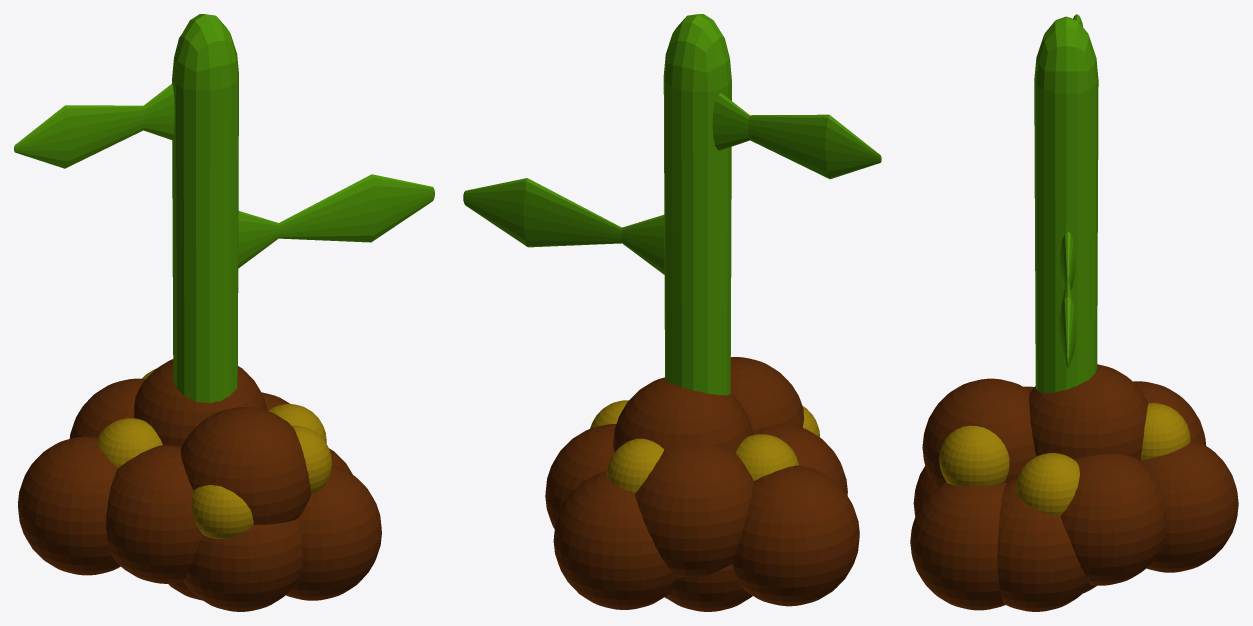
File: brotobatata.fbx
The picture shows the model from 3 angles, left to right: view 1: azimuth 30°, elevation 25°; view 2: azimuth 150°, elevation 25°; view 3: azimuth 270°, elevation 25°; orthographic projection. The views are drawn at different scales.
Visible parts, largest first — view 1: Sphere.005, Roundcube, Roundcube.002, Sphere.002, Roundcube.001; view 2: Sphere.005, Roundcube, Roundcube.002, Roundcube.001, Sphere.002; view 3: Sphere.005, Roundcube, Sphere.002, Roundcube.002.
Part boxes in pixels (box(x1,y1,x2,y2)): Sphere.005: box(18, 359, 381, 611); Roundcube: box(172, 14, 238, 403); Roundcube.002: box(238, 174, 434, 268); Sphere.002: box(96, 369, 331, 538); Roundcube.001: box(14, 84, 174, 168); Sphere.005: box(545, 357, 859, 611); Roundcube: box(663, 14, 731, 395); Roundcube.002: box(463, 178, 664, 274); Roundcube.001: box(712, 93, 881, 179); Sphere.002: box(590, 400, 819, 493); Sphere.005: box(910, 364, 1238, 611); Roundcube: box(1034, 16, 1098, 393); Sphere.002: box(939, 403, 1190, 515); Roundcube.002: box(1059, 231, 1075, 367).
Bounding box in the file's own units: 691 × 919 × 478.
